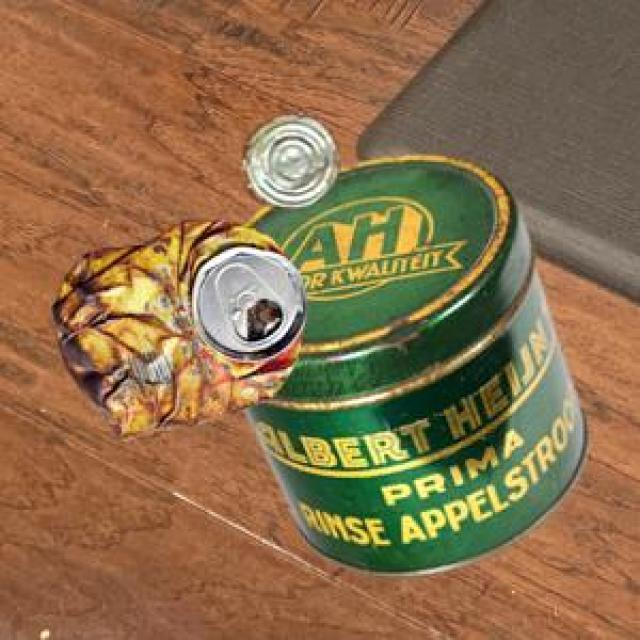Can: (238, 153, 586, 575), (50, 217, 304, 436), (240, 112, 336, 204)
